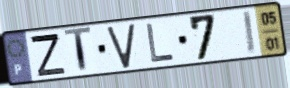7: (187, 12, 218, 63)
I: (240, 9, 258, 57)
L: (145, 22, 177, 65)
T: (63, 25, 94, 75)
V: (105, 22, 137, 71)
Z: (27, 32, 68, 79)
